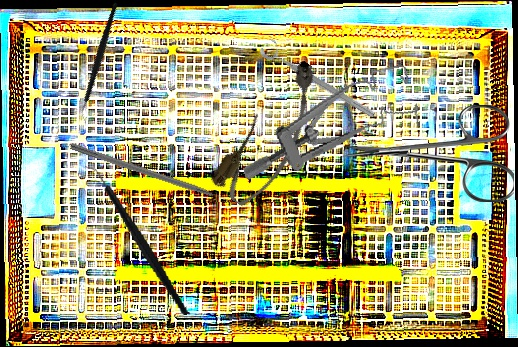Cannula: (206, 54, 341, 214)
Chopper: (81, 151, 191, 330), (45, 1, 155, 125)
Fixation Ring: (257, 35, 382, 122)
Hook Surgical: (69, 142, 241, 209)
Iris Scissors: (343, 105, 514, 202)
Speculum: (228, 62, 426, 183)
